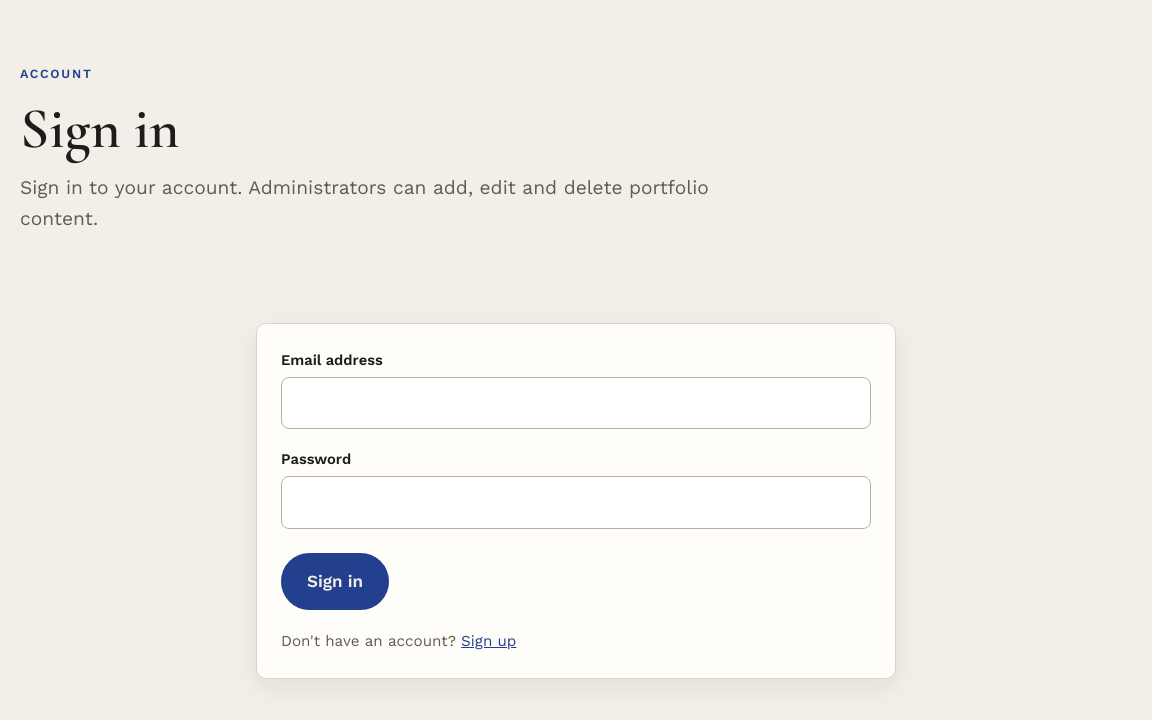
it: Signin page › shows the server error when sign in fails
This screenshot has width=1152, height=720.
Type "user@example.com" into the field labelled "Email address" at (576, 403), box [281,377,871,429]
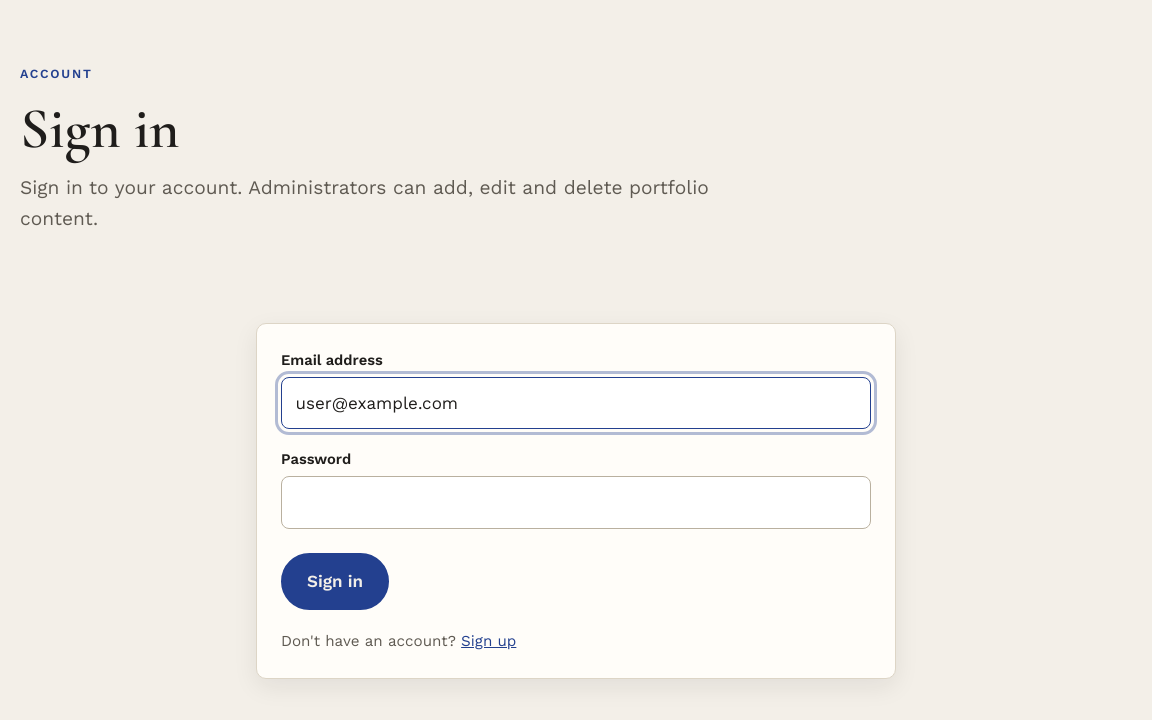
Type "wrong" into the password field labelled "Password" at (576, 502), box [281,476,871,528]
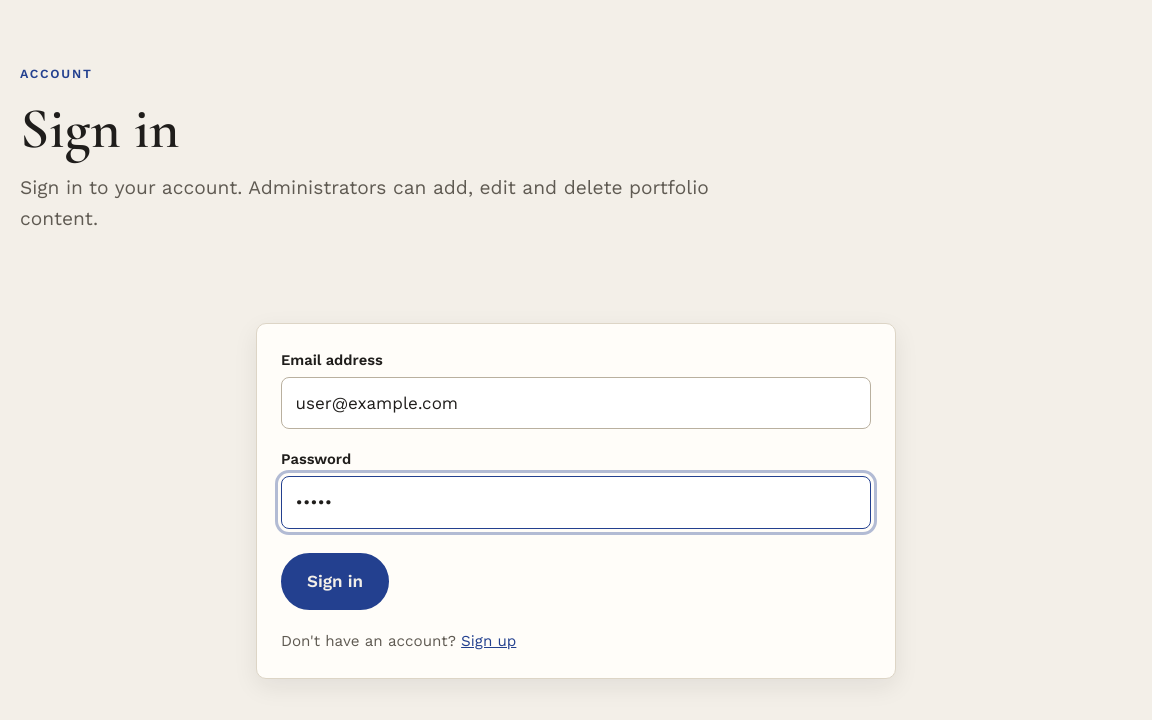
Click the button "Sign in" at (335, 581), box [281,552,389,610]
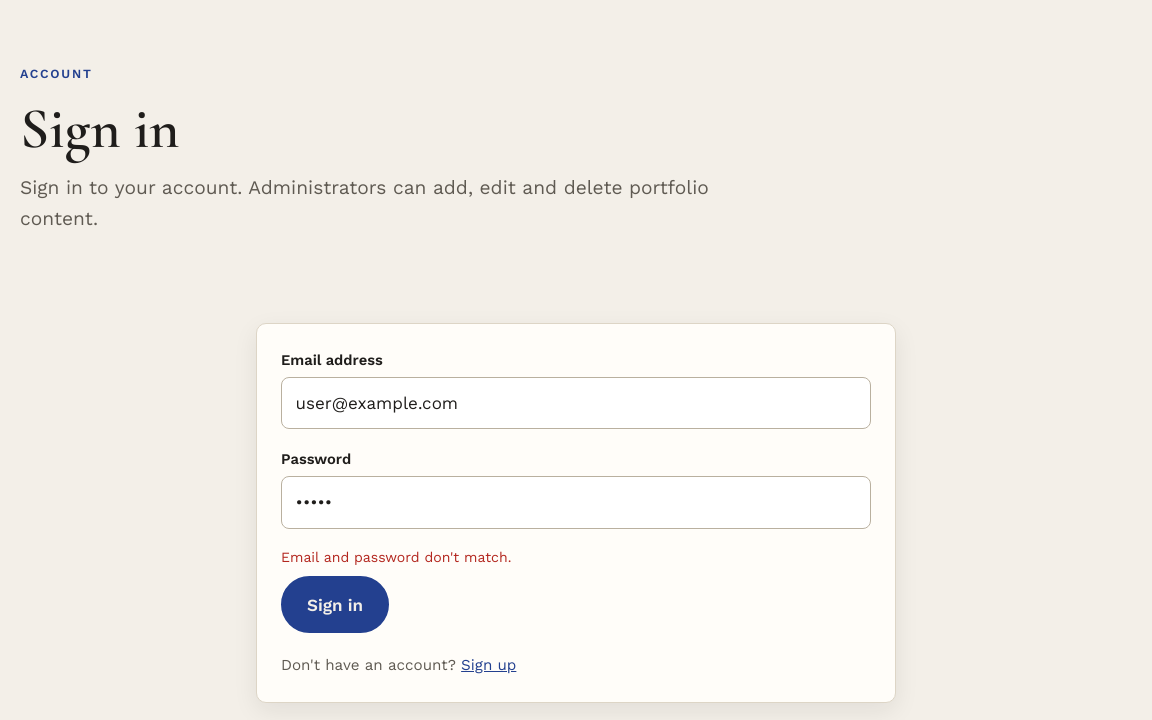
Now the message reads "Email and password don't match.", box [281,549,511,565]
